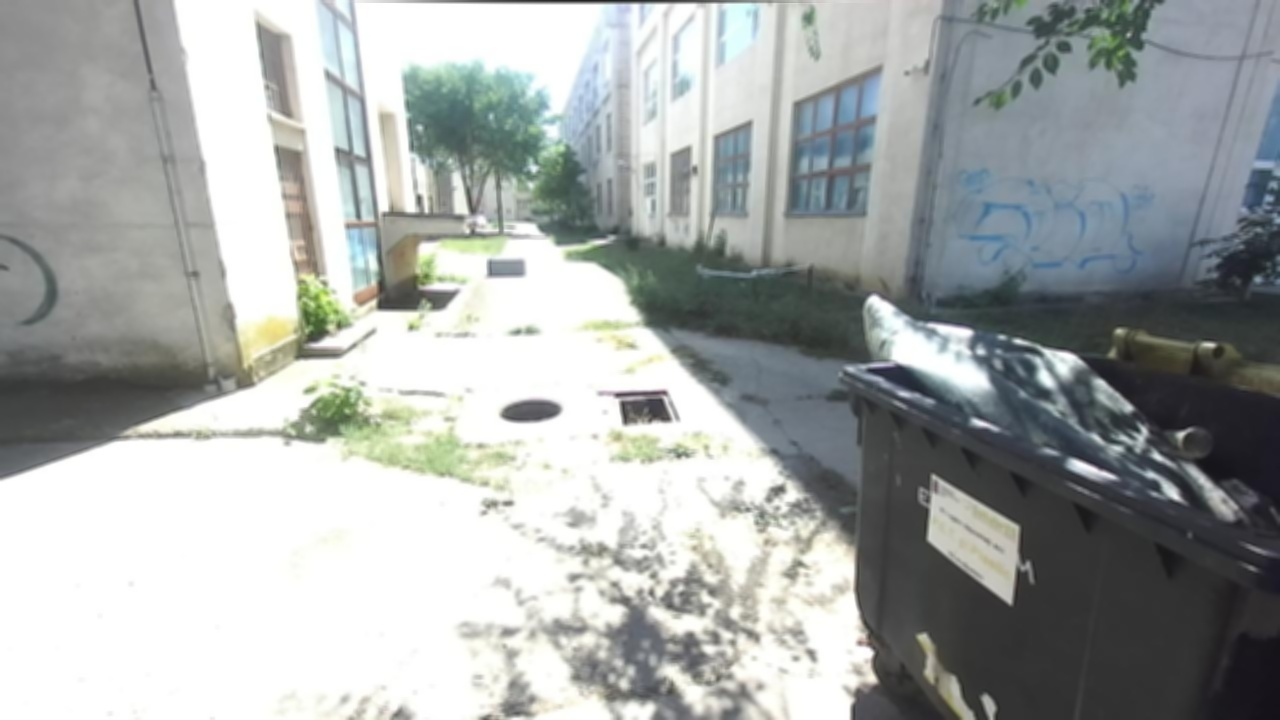drain: (614, 389, 681, 427), (494, 395, 569, 423)
